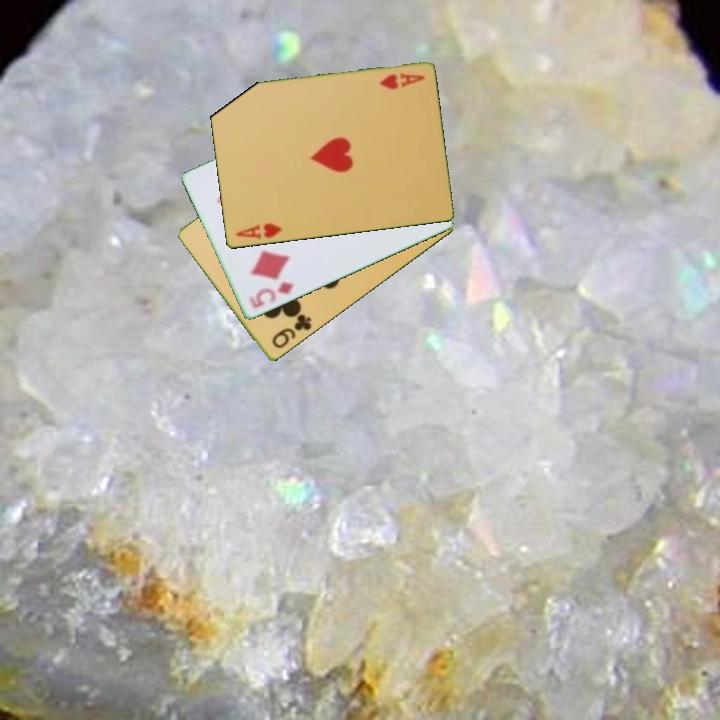5d: (245, 278, 296, 311)
9c: (268, 311, 315, 352)
Ah: (376, 69, 427, 92), (232, 220, 285, 242)
